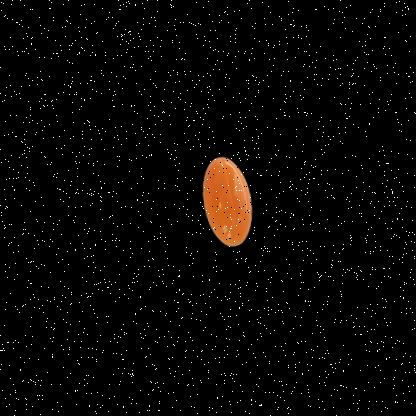welood: (166, 137, 298, 272)
